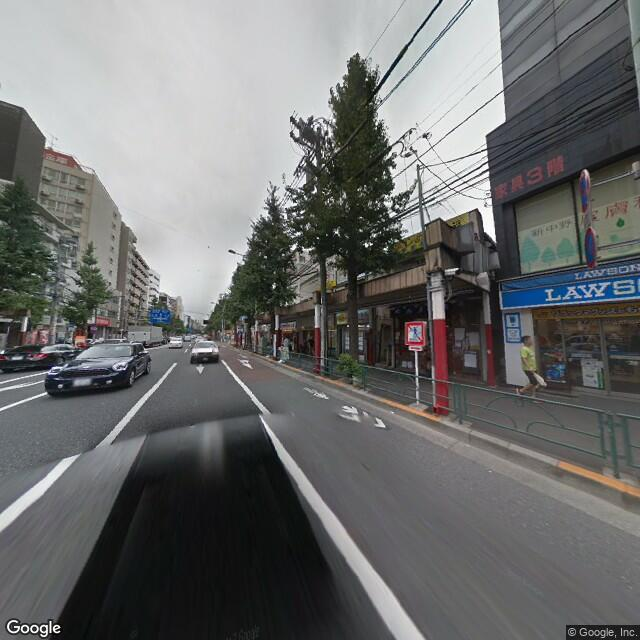lawson: (500, 255, 639, 316), (572, 261, 640, 284)
